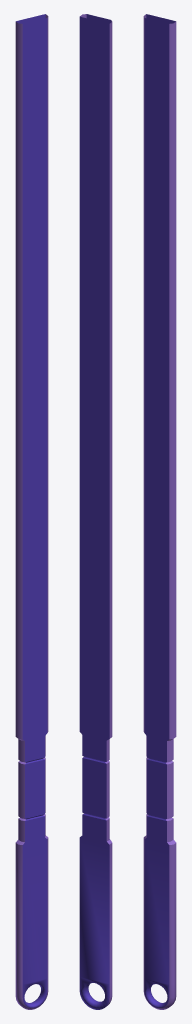
File: Conveyor_Belt-Pole.fbx
3 views of the same model, side by side, from view 1: azimuth 30°, elevation 25°; view 2: azimuth 150°, elevation 25°; view 3: azimuth 330°, elevation 25° (orthographic).
Visible parts, largest first — view 1: Conveyor_Belt-Pole; view 2: Conveyor_Belt-Pole; view 3: Conveyor_Belt-Pole.
Part boxes in pixels (left/top/right/bottom): Conveyor_Belt-Pole: left=15, top=14, right=48, bottom=1009; Conveyor_Belt-Pole: left=79, top=14, right=112, bottom=1009; Conveyor_Belt-Pole: left=143, top=14, right=176, bottom=1009.
Size of the model in its own units: 41.7 by 1315 by 10.74.
